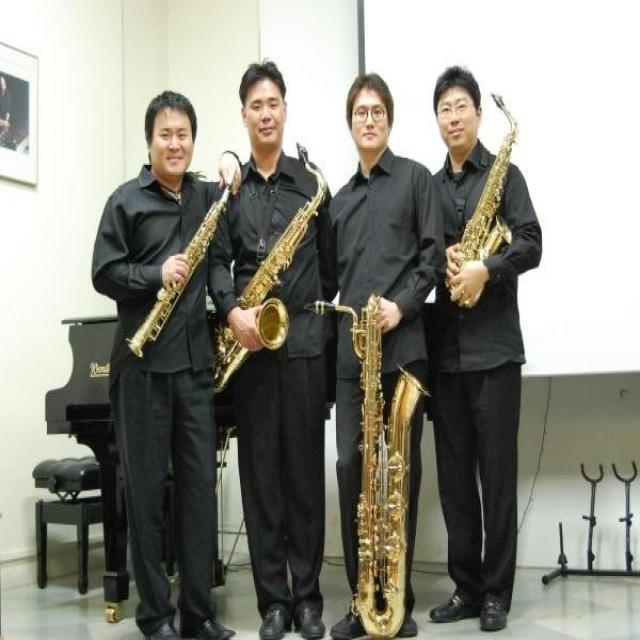saxophone: (304, 294, 430, 636), (210, 142, 331, 392), (445, 92, 523, 306)
